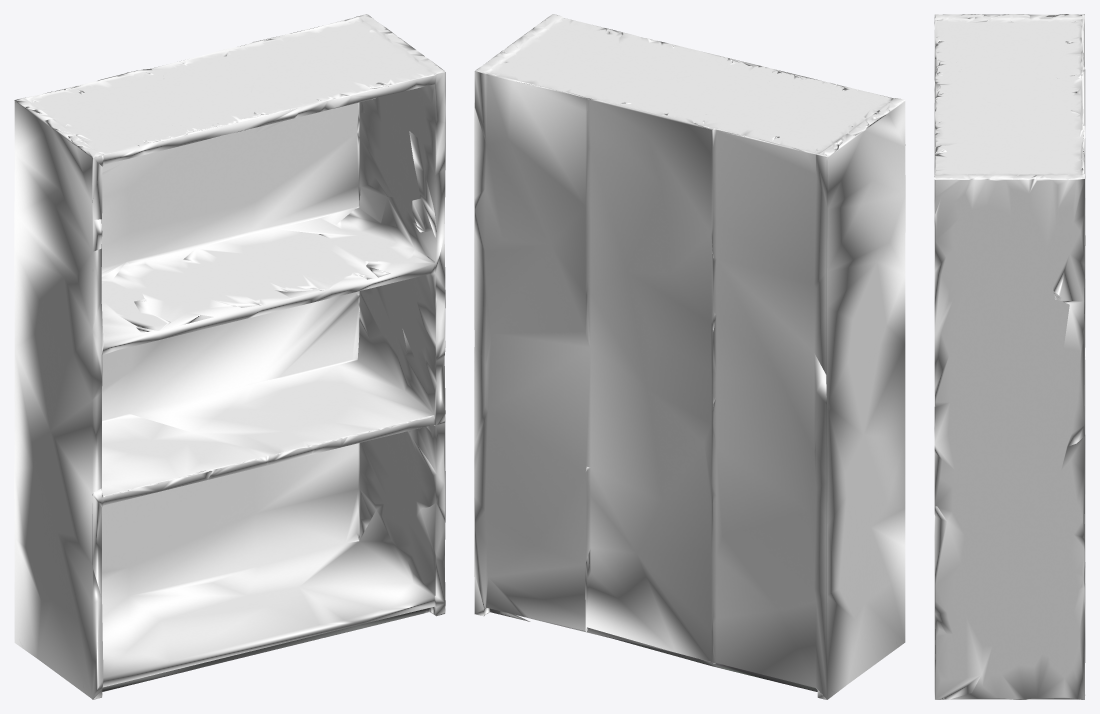
The model's file is meshy-target-54358443.glb.
3 renders of one model, left to right at view 1: azimuth 30°, elevation 25°; view 2: azimuth 150°, elevation 25°; view 3: azimuth 270°, elevation 25°, orthographic. The views are drawn at different scales.
Parts seen in each view (by area): view 1: Exact catalog scale: target-54358443; view 2: Exact catalog scale: target-54358443; view 3: Exact catalog scale: target-54358443.
Boxes of the visible parts, bbox=[...] form: Exact catalog scale: target-54358443: bbox=[14, 14, 445, 699]; Exact catalog scale: target-54358443: bbox=[474, 14, 905, 699]; Exact catalog scale: target-54358443: bbox=[934, 14, 1085, 699].
Size of the model in its own units: 0.622 by 0.914 by 0.24.
Materials: 1 (1 with a texture image).
